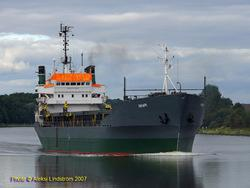Cargoship: (31, 17, 214, 156)
